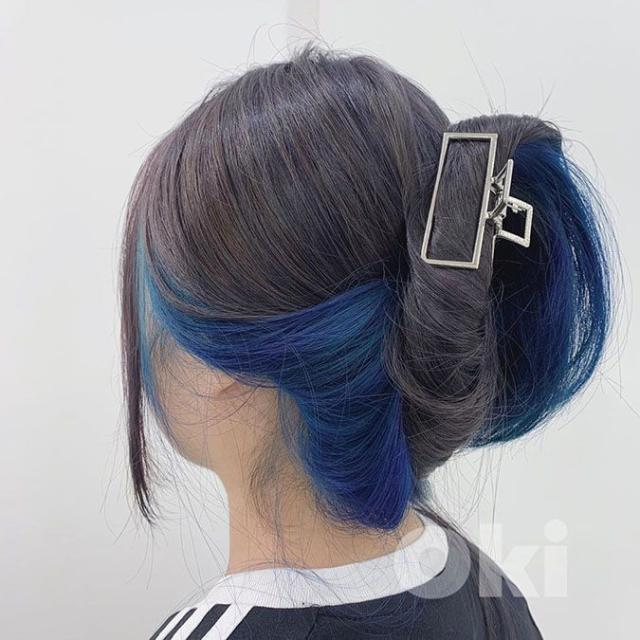Nonhelmet: (113, 40, 617, 546)
